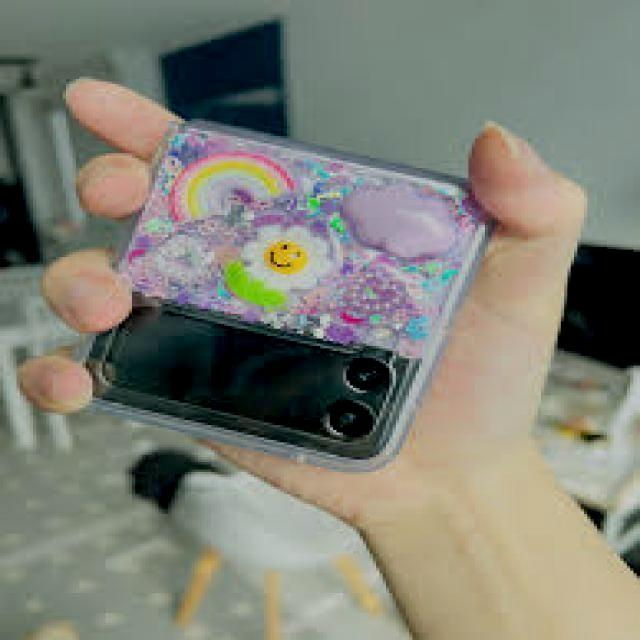lens: (315, 353, 393, 443)
phone: (92, 106, 475, 459)
